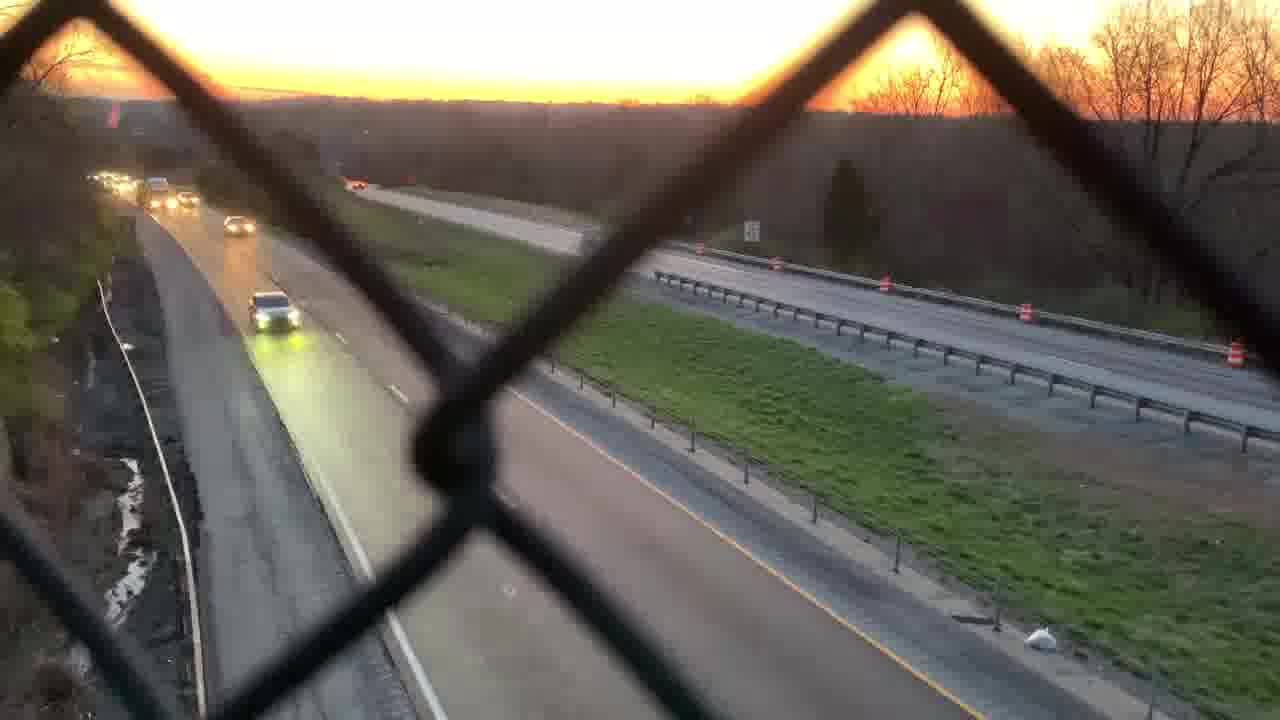smallCar: (247, 290, 301, 333)
